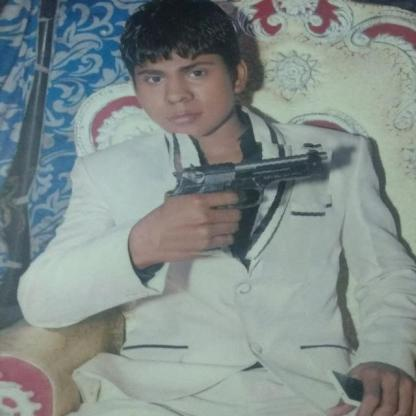handgun: (161, 137, 330, 218)
